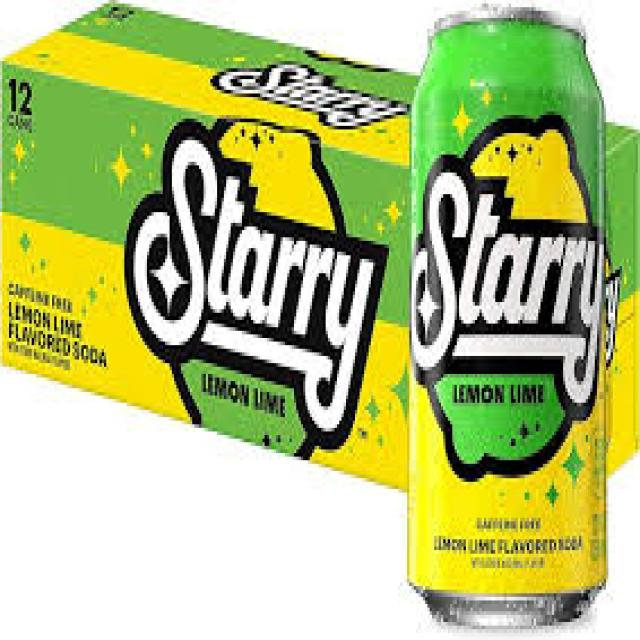Cans: (404, 4, 620, 629)
